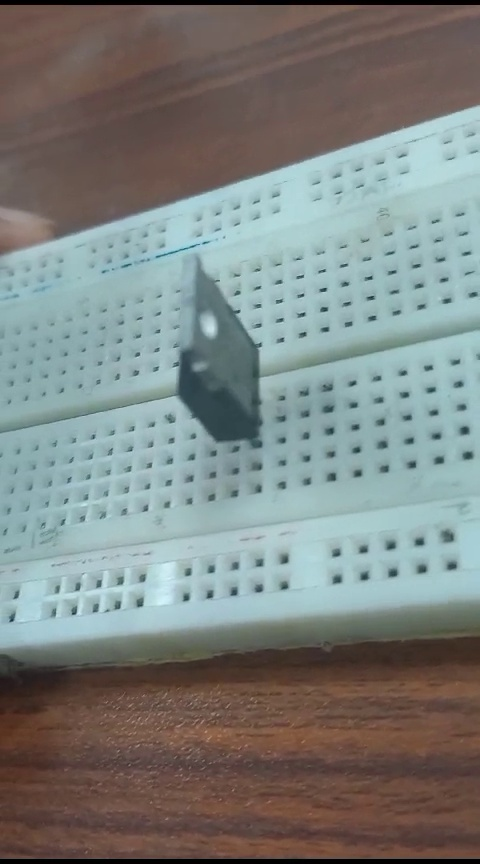voltage regulator: (149, 253, 265, 444)
